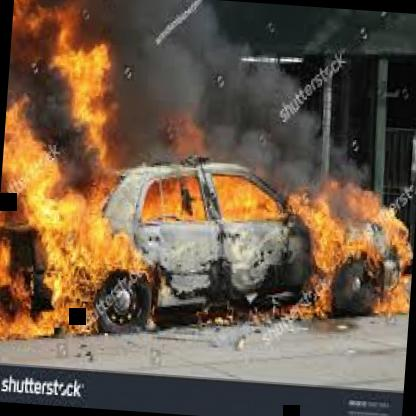fire: (0, 0, 183, 323), (164, 142, 416, 314)
